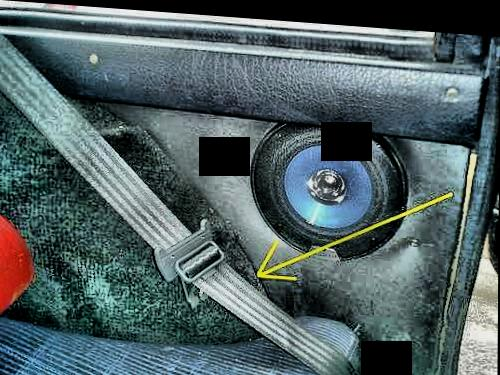seatbelt: (17, 49, 341, 368)
